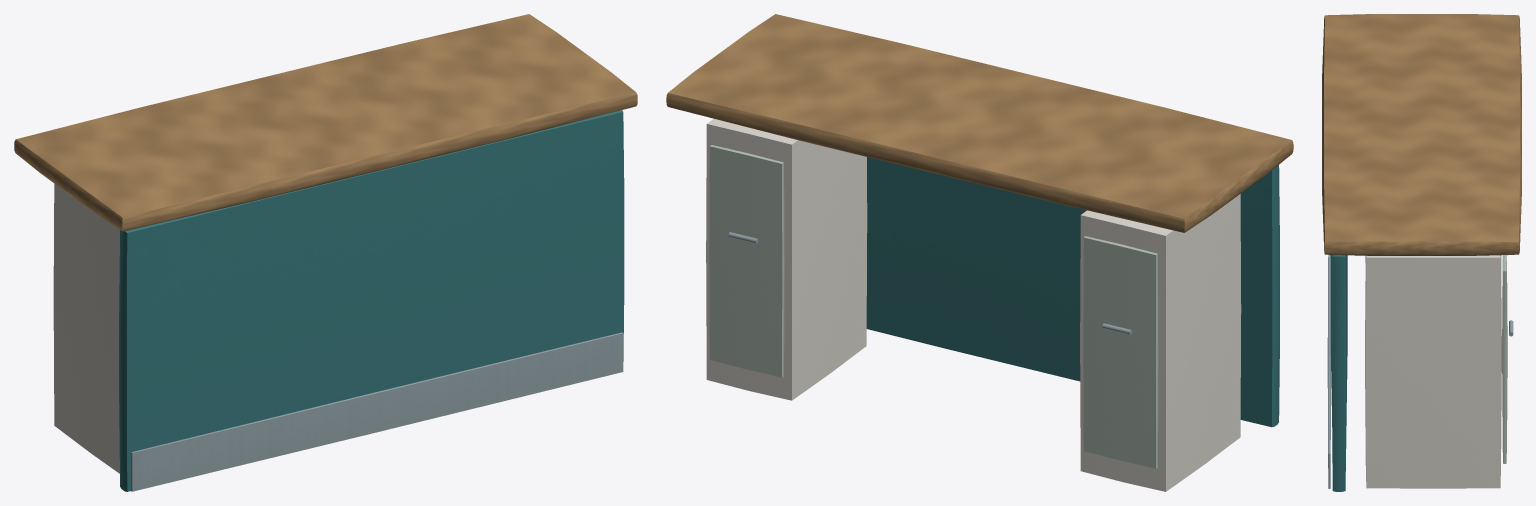
The model's file is registration-counter.glb.
3 views of the same model, side by side, from view 1: azimuth 30°, elevation 25°; view 2: azimuth 150°, elevation 25°; view 3: azimuth 270°, elevation 25° (orthographic). The views are drawn at different scales.
Visible parts, largest first — view 1: registration-counter; view 2: registration-counter; view 3: registration-counter.
Part boxes in pixels (x1,y1,x2,y2): registration-counter: (14, 14, 637, 491); registration-counter: (666, 14, 1293, 491); registration-counter: (1322, 14, 1521, 491).
Size of the model in its own units: 1.9 by 1.01 by 0.7.
Materials: 9 (9 with a texture image).
